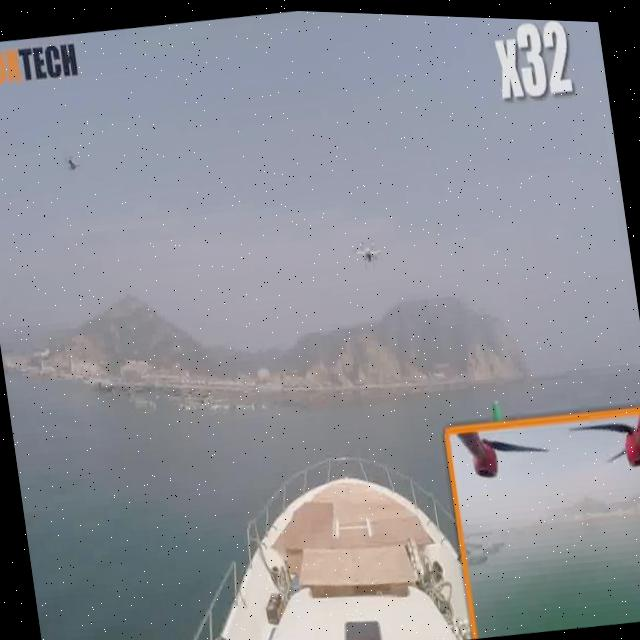drone: (342, 214, 394, 280)
